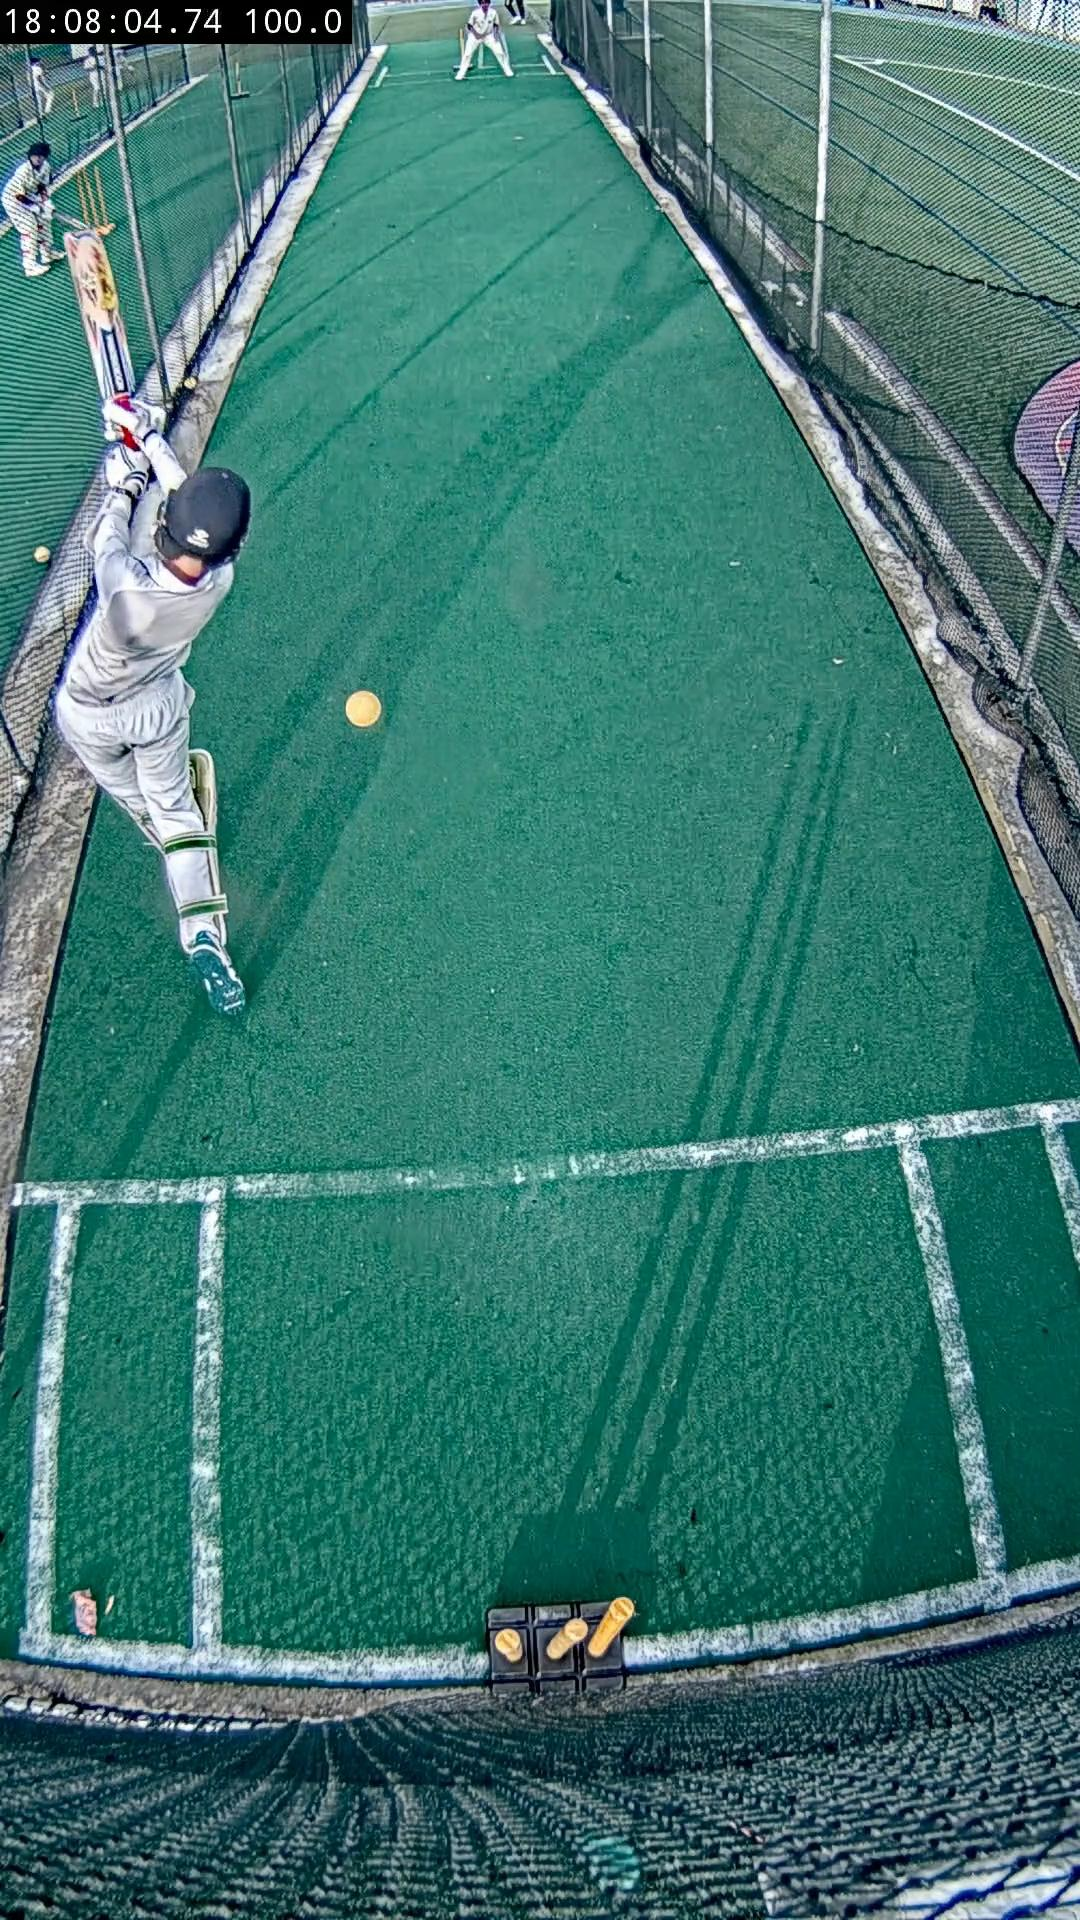ball: (345, 690, 382, 728)
bat: (63, 228, 135, 397)
gloves: (105, 394, 157, 495)
helmet: (157, 468, 252, 566)
pads: (190, 750, 218, 836)
stumps: (488, 1597, 634, 1695)
